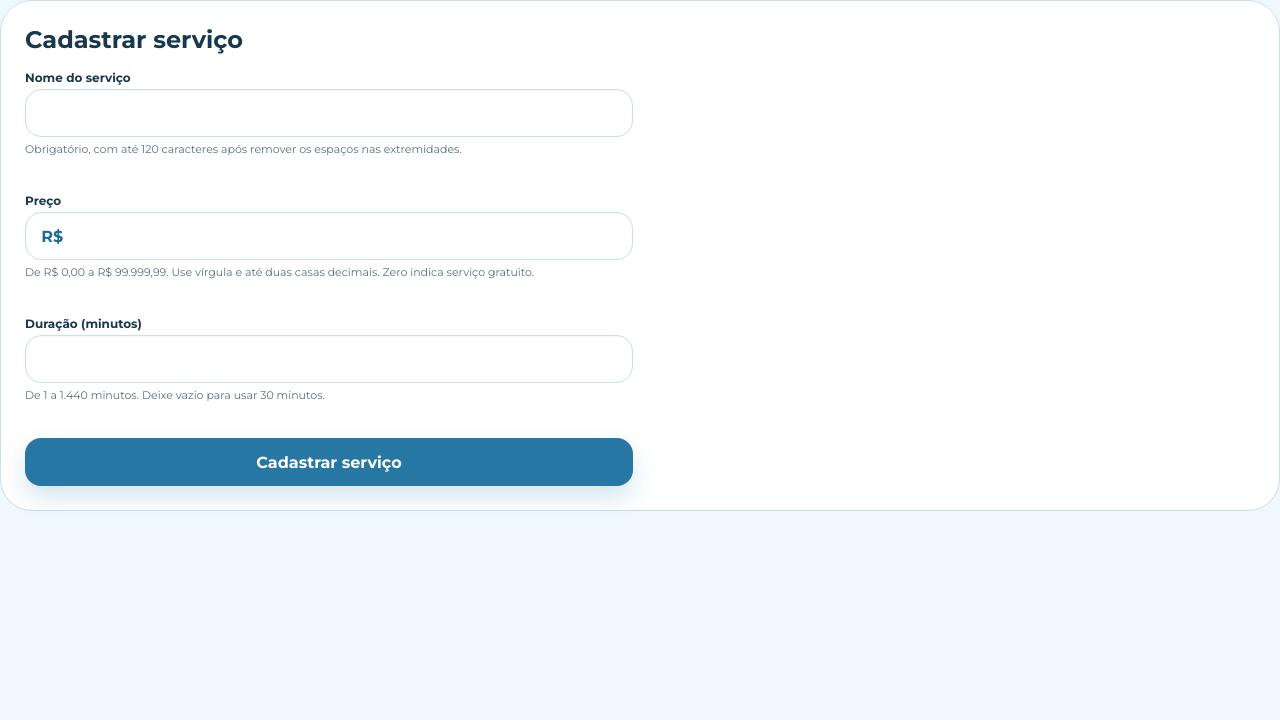
Test: impede submissões simultâneas e informa read_only
Type "Corte" into the field labelled "Nome do serviço". click: (329, 114)
box: [25,90,633,138]
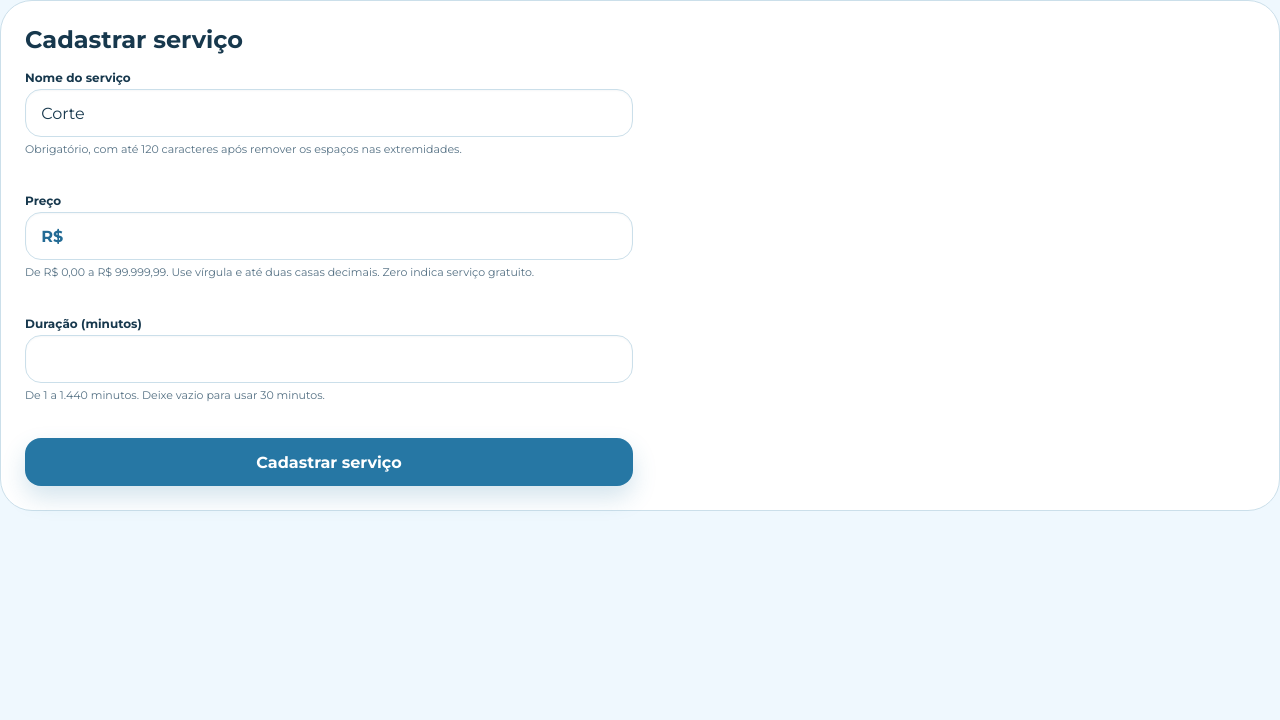
Type "0,01" into the field labelled "Preço". click: (348, 236)
box: [63,213,632,259]
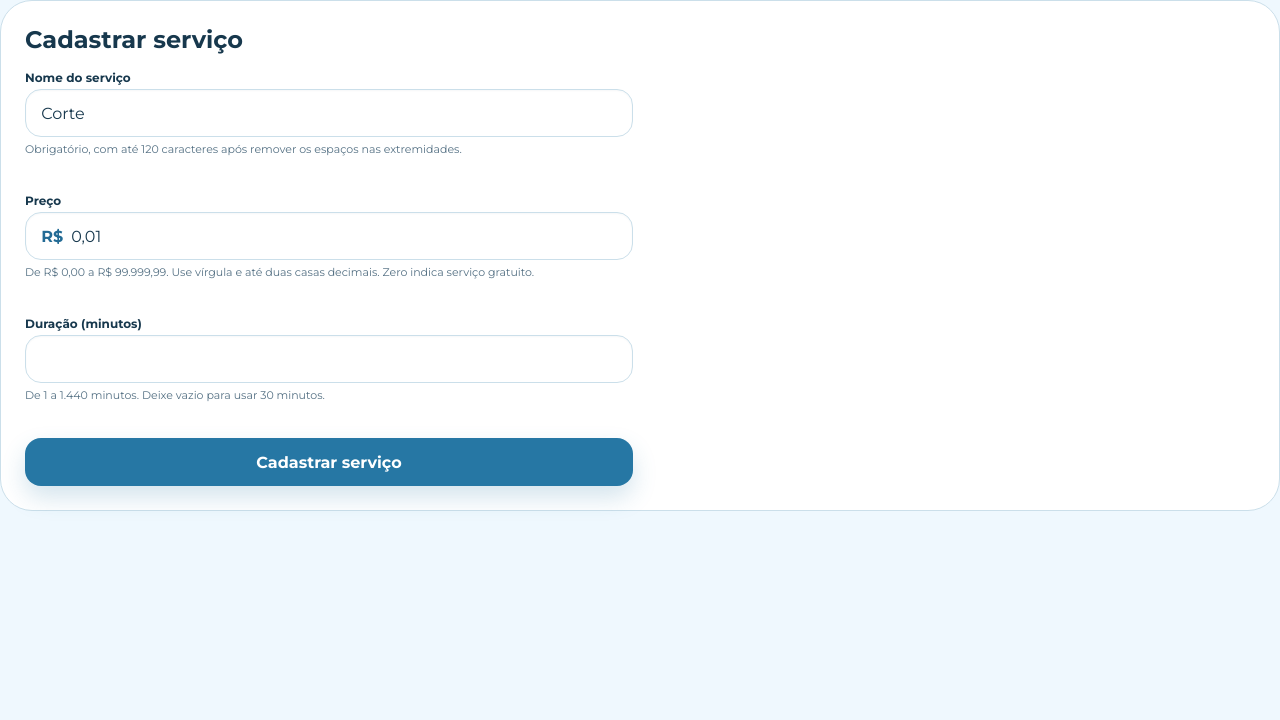
Submit the form named "Cadastrar serviço", box [25,70,633,486]
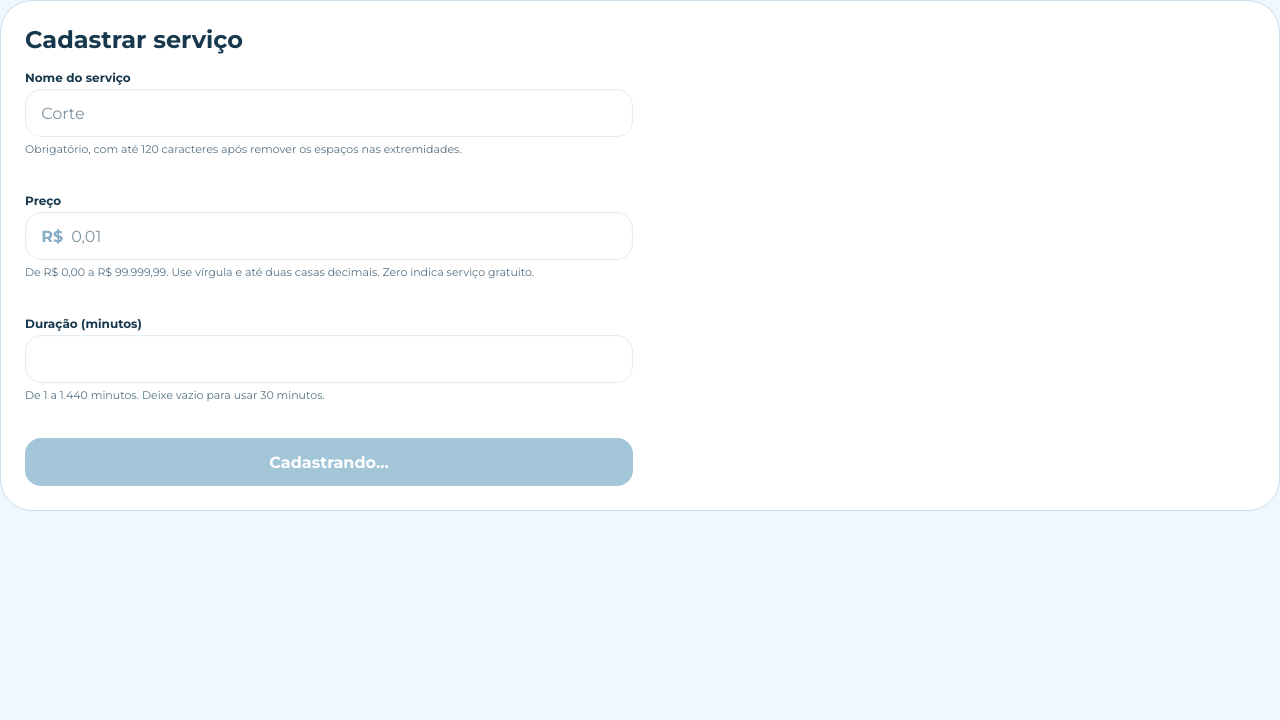
Submit the form named "Cadastrar serviço", box [25,70,633,486]
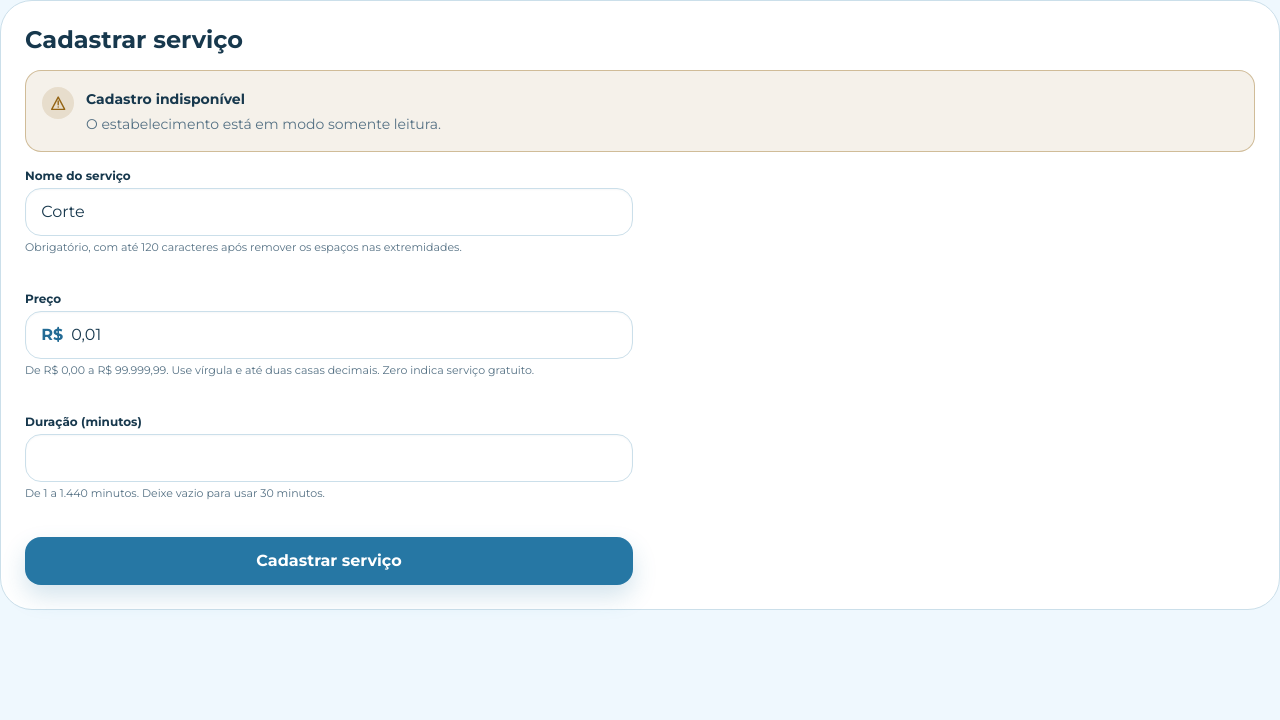
expect the text "Cadastro indisponível" is shown: met, box [86,90,245,108]
